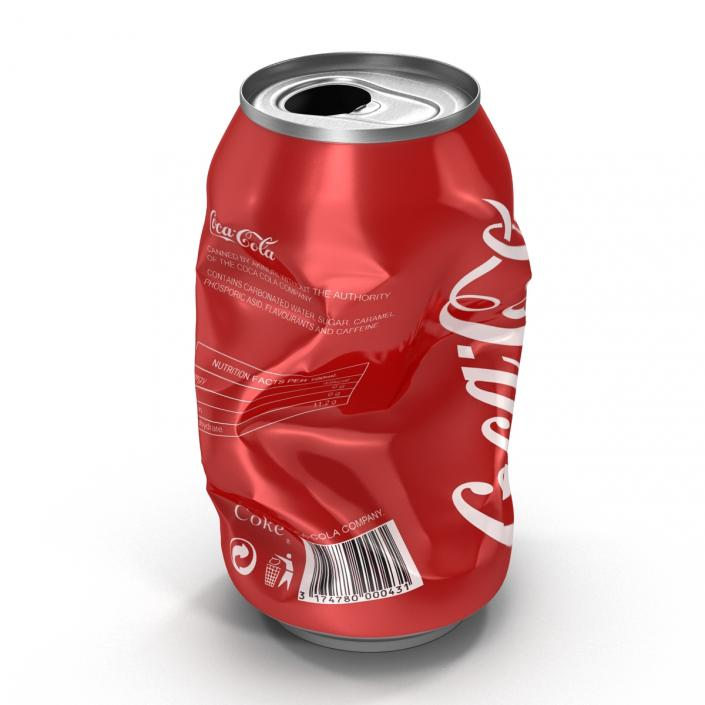can: (191, 50, 533, 653)
